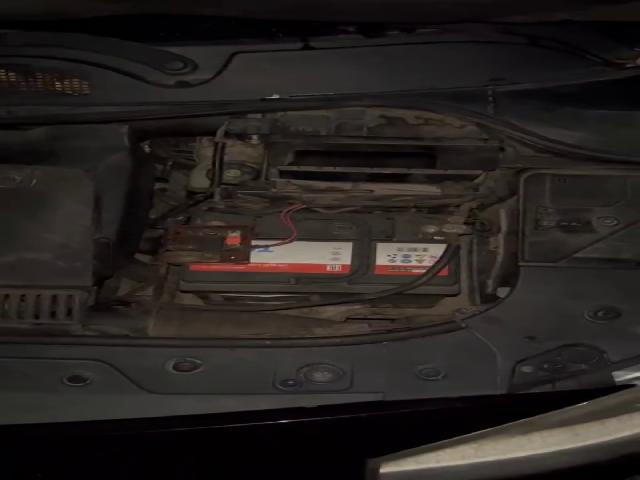accumulator: (152, 211, 465, 308)
fuse_box: (520, 174, 638, 267)
